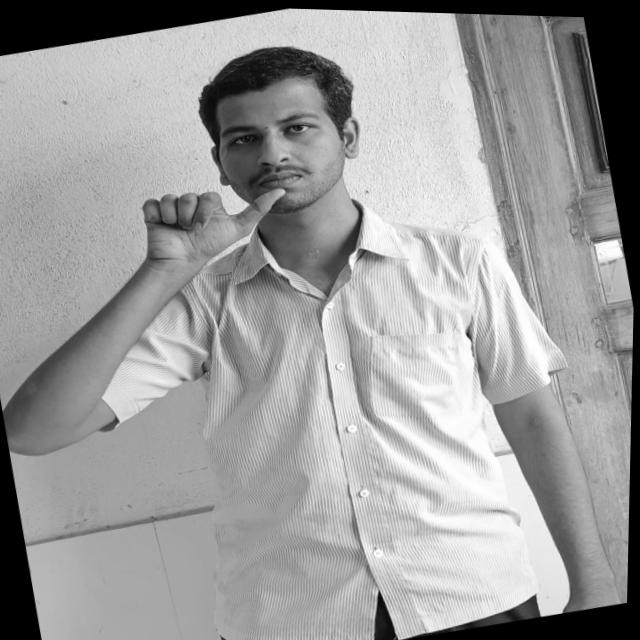Drink: (127, 167, 308, 283)
